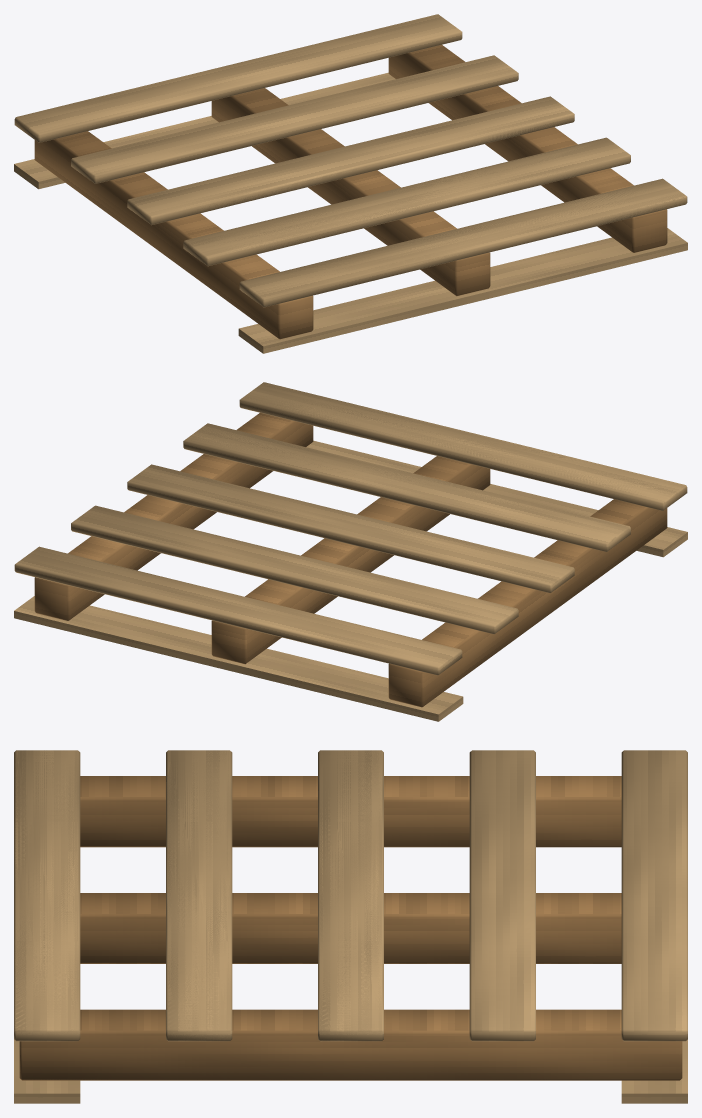
Rendered from palete.glb.
3 views of the same model, one above another, from view 1: azimuth 30°, elevation 25°; view 2: azimuth 150°, elevation 25°; view 3: azimuth 270°, elevation 25° (orthographic). The views are drawn at different scales.
Parts seen in each view (by area): view 1: Inteiro, Peca_00, Peca_01; view 2: Inteiro, Peca_00, Peca_01; view 3: Inteiro, Peca_00, Peca_01, Peca_03.
Part boxes in pixels (<box>): Inteiro: <box>14,14,687,353</box>; Peca_00: <box>185,137,687,307</box>; Peca_01: <box>127,114,570,224</box>; Inteiro: <box>14,382,687,721</box>; Peca_00: <box>185,383,687,549</box>; Peca_01: <box>131,477,539,559</box>; Inteiro: <box>14,750,687,1103</box>; Peca_00: <box>14,750,229,1041</box>; Peca_01: <box>318,750,381,1041</box>; Peca_03: <box>20,1078,681,1080</box>.
Bounding box in the file's own units: 1.2 × 0.1475 × 1.22.
1 material, 1 textured.
